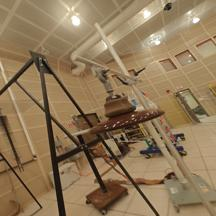insulator: (87, 90, 165, 138)
